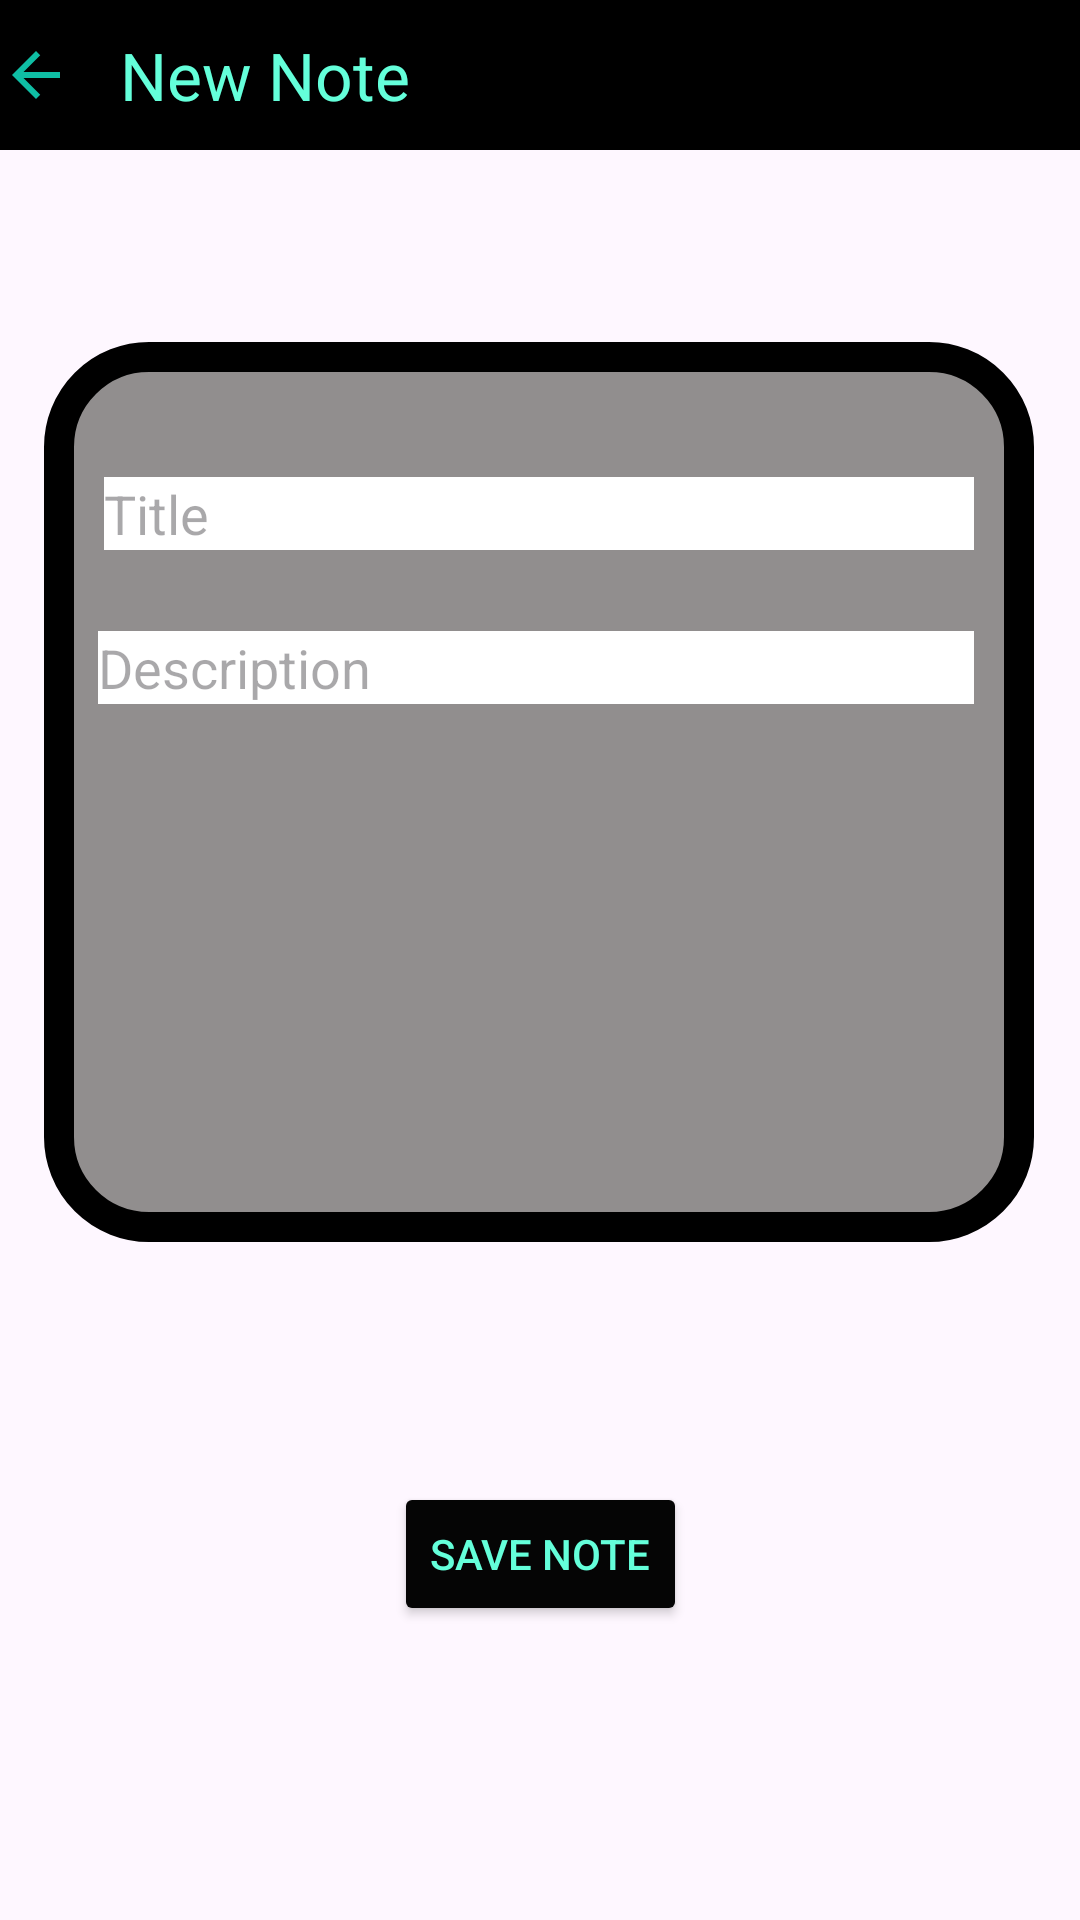

Icons on this 1080*1920 Android screen, each with its box as rect(x1, y1, x2, y2):
arrow back: rect(12, 51, 60, 99)
